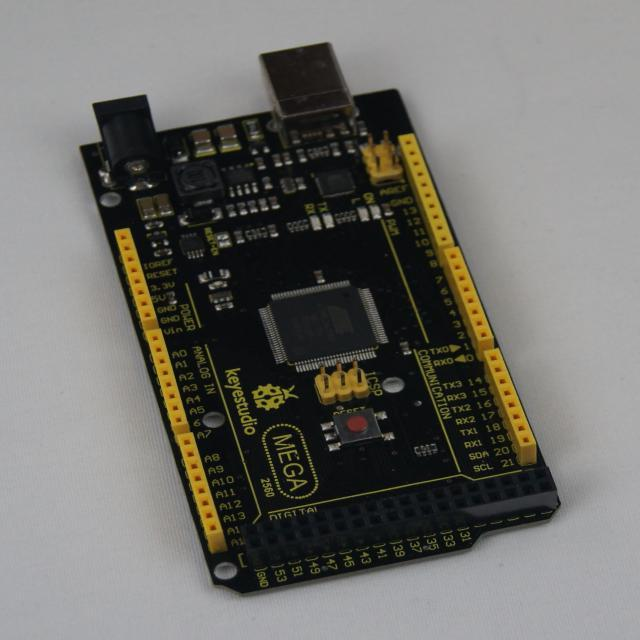Arduino Mega 2560 -Yellow-: (82, 44, 560, 594)
